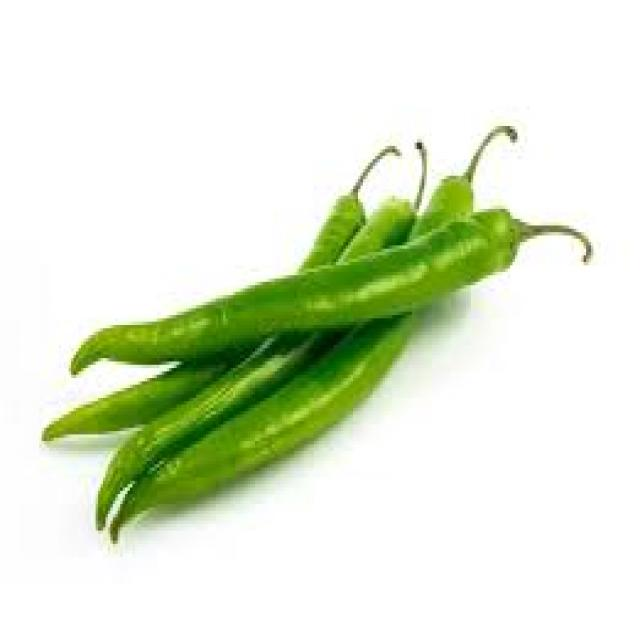green chilli: (70, 210, 591, 380)
